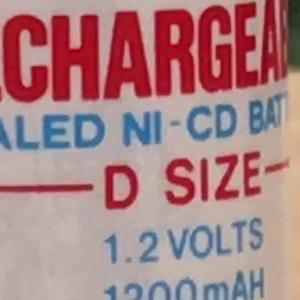keyword: (107, 94, 257, 178)
